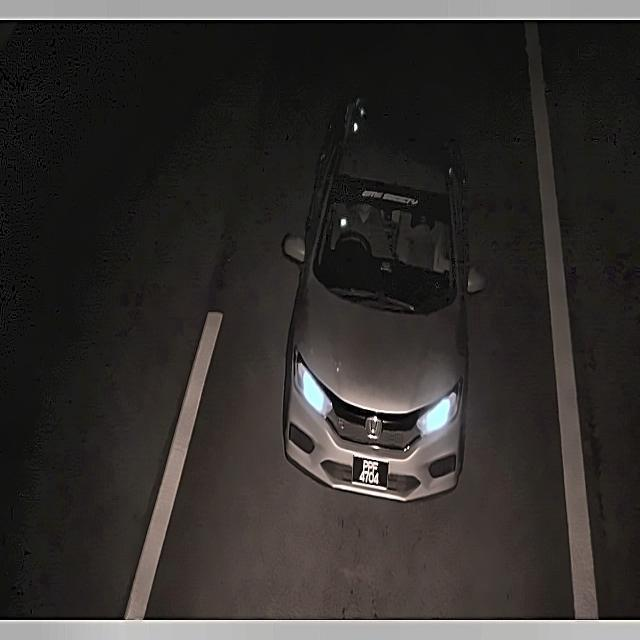car: (348, 450, 396, 492)
